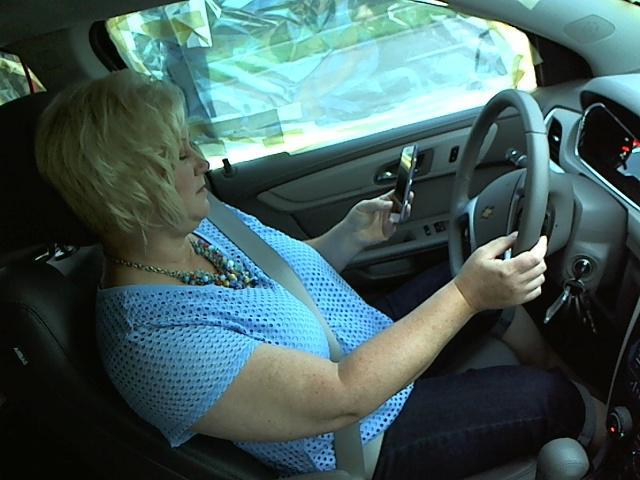c1 - Texting: (30, 53, 560, 438)
